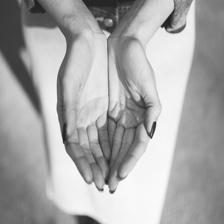Hand: (0, 0, 109, 190), (135, 1, 199, 193)
